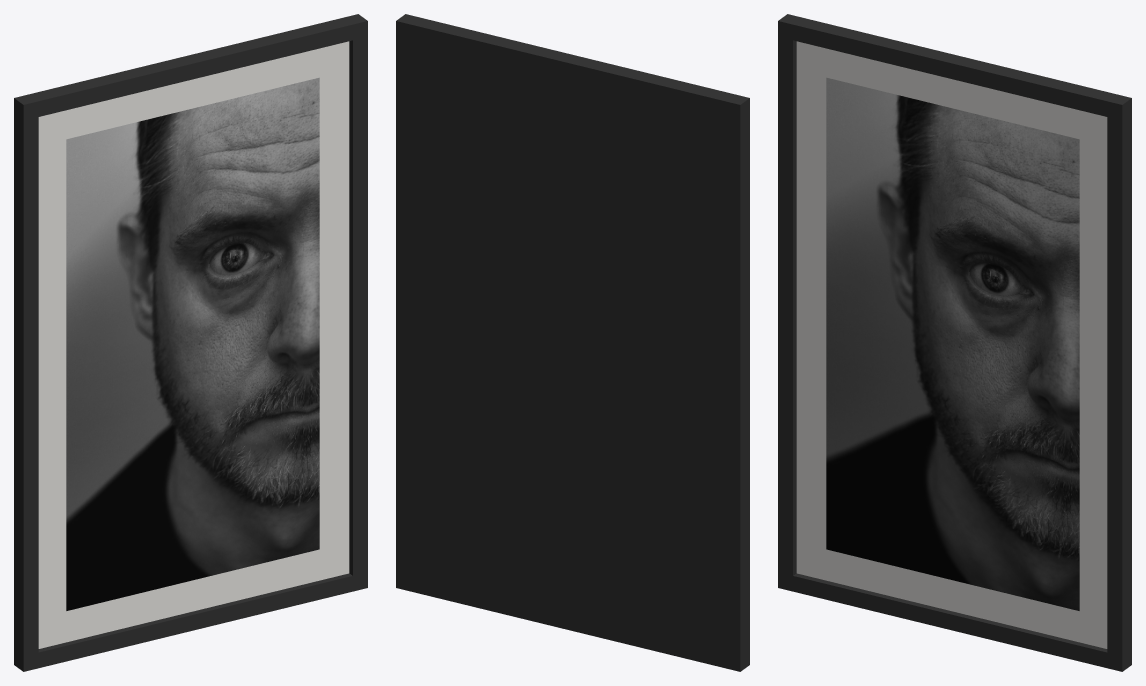
The model's file is blicken-60.gltf.
3 renders of one model, left to right at view 1: azimuth 30°, elevation 25°; view 2: azimuth 150°, elevation 25°; view 3: azimuth 330°, elevation 25°, orthographic.
Visible parts, largest first — view 1: tavla; view 2: tavla; view 3: tavla.
Boxes of the visible parts, x1=… form: tavla: x1=14, y1=14, x2=367, y2=671; tavla: x1=396, y1=14, x2=749, y2=671; tavla: x1=778, y1=14, x2=1131, y2=671.
Bounding box in the file's own units: 0.4583 × 0.721 × 0.022.
3 materials, 1 textured.
